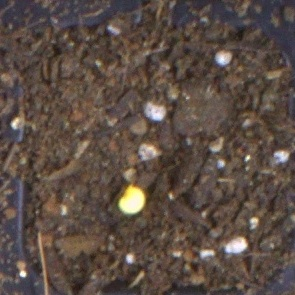chilli seed: (117, 183, 147, 216)
